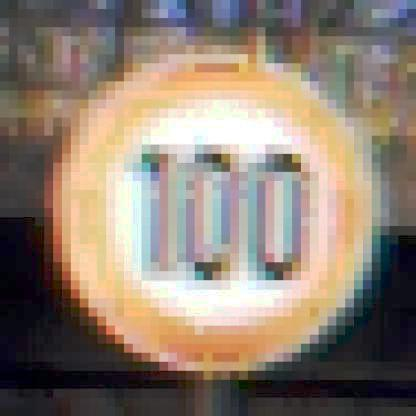Speed Limit -100-: (50, 55, 387, 376)
